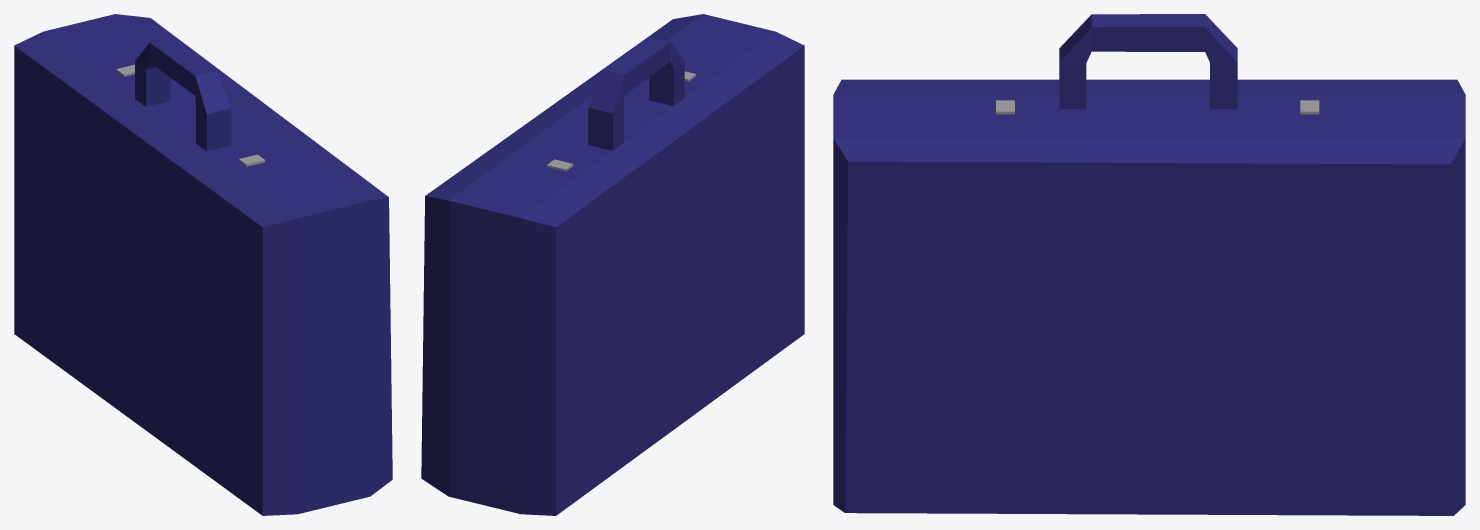
The model's file is laukku2.fbx.
3 renders of one model, left to right at view 1: azimuth 30°, elevation 25°; view 2: azimuth 150°, elevation 25°; view 3: azimuth 270°, elevation 25°, orthographic. The views are drawn at different scales.
Visible parts, largest first — view 1: Plane; view 2: Plane; view 3: Plane.
Part boxes in pixels (x1,y1,x2,y2): Plane: (14, 14, 392, 515); Plane: (421, 14, 804, 515); Plane: (833, 14, 1465, 515).
Bounding box in the file's own units: 98.87 × 251 × 320.
